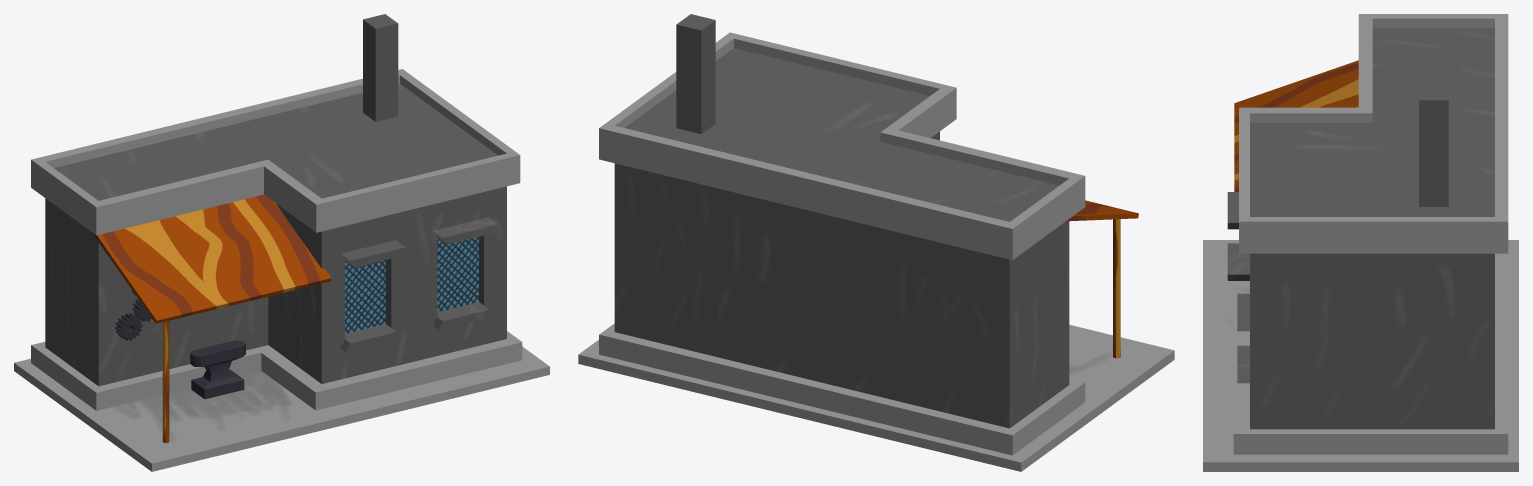
Rendered from Blacksmith.fbx.
3 renders of one model, left to right at view 1: azimuth 30°, elevation 25°; view 2: azimuth 150°, elevation 25°; view 3: azimuth 270°, elevation 25°, orthographic. The views are drawn at different scales.
Parts seen in each view (by area): view 1: pGear4; view 2: pGear4; view 3: pGear4.
Part boxes in pixels (x1=…): pGear4: x1=14, y1=14, x2=549, y2=471; pGear4: x1=578, y1=14, x2=1174, y2=471; pGear4: x1=1203, y1=14, x2=1518, y2=471.
Size of the model in its own units: 10 by 7.12 by 6.
